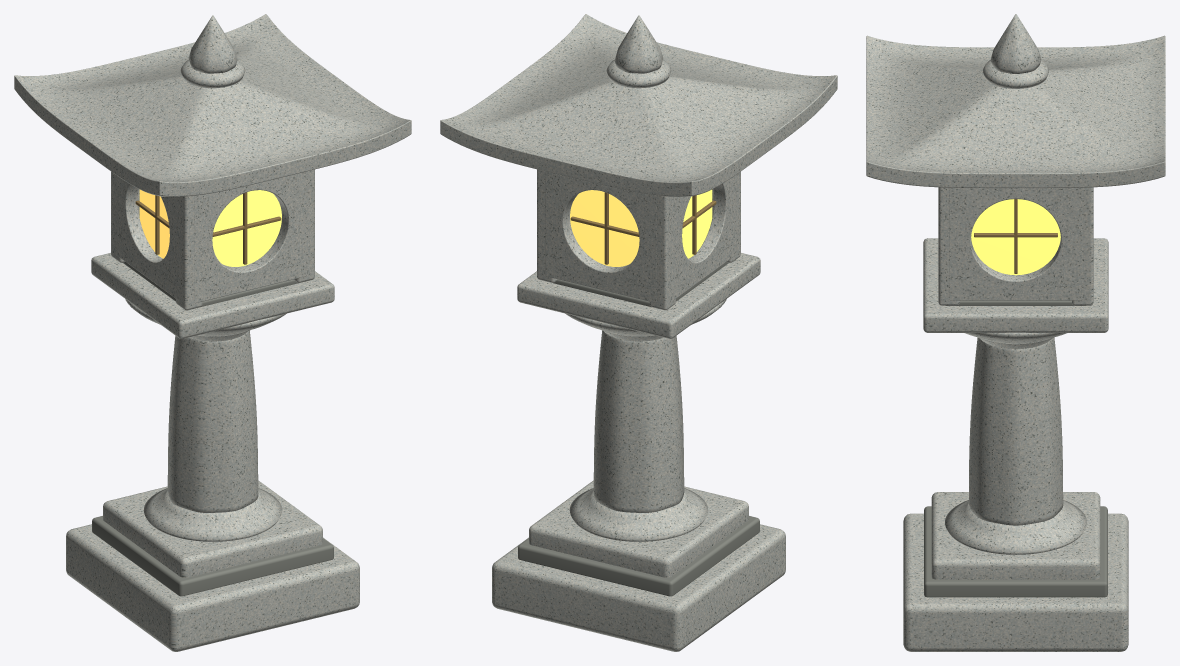
Rendered from stone-lantern.glb.
3 views of the same model, side by side, from view 1: azimuth 30°, elevation 25°; view 2: azimuth 150°, elevation 25°; view 3: azimuth 270°, elevation 25° (orthographic). The views are drawn at different scales.
Parts seen in each view (by area): view 1: Lantern | fine carved granite, Lantern | shaded carved courses, Lantern | warm inner screen, Lantern | antique bronze grille; view 2: Lantern | fine carved granite, Lantern | shaded carved courses, Lantern | warm inner screen, Lantern | antique bronze grille; view 3: Lantern | fine carved granite, Lantern | shaded carved courses, Lantern | warm inner screen, Lantern | antique bronze grille.
Boxes of the visible parts, bbox=[...] form: Lantern | fine carved granite: bbox=[14, 14, 411, 651]; Lantern | shaded carved courses: bbox=[92, 262, 333, 596]; Lantern | warm inner screen: bbox=[139, 189, 281, 266]; Lantern | antique bronze grille: bbox=[135, 192, 281, 264]; Lantern | fine carved granite: bbox=[440, 14, 837, 651]; Lantern | shaded carved courses: bbox=[518, 262, 759, 596]; Lantern | warm inner screen: bbox=[570, 189, 712, 266]; Lantern | antique bronze grille: bbox=[570, 192, 716, 264]; Lantern | fine carved granite: bbox=[866, 14, 1165, 651]; Lantern | shaded carved courses: bbox=[924, 300, 1107, 597]; Lantern | warm inner screen: bbox=[971, 199, 1060, 275]; Lantern | antique bronze grille: bbox=[974, 199, 1057, 273].
Bounding box in the file's own units: 1.01 × 2.21 × 1.01.
Materials: 4 (1 with a texture image).
